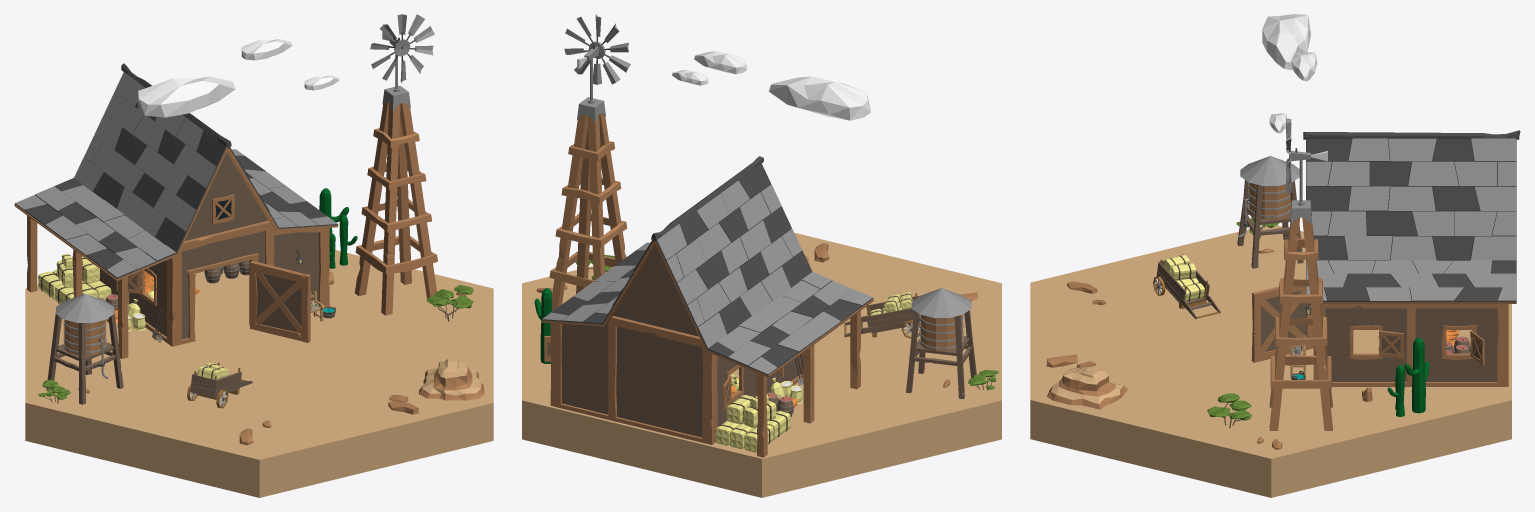
Rendered from Tile_9.fbx.
3 renders of one model, left to right at view 1: azimuth 30°, elevation 25°; view 2: azimuth 150°, elevation 25°; view 3: azimuth 270°, elevation 25°, orthographic. The views are drawn at different scales.
Parts seen in each view (by area): view 1: Tile_9_Base, Tile_9_Farm, Tile_9, Tile_9_windmill, Tile_9_Water_tower, Tile_9_Cart; view 2: Tile_9_Farm, Tile_9_Base, Tile_9_windmill, Tile_9, Tile_9_Water_tower, Tile_9_Cart; view 3: Tile_9_Base, Tile_9_Farm, Tile_9, Tile_9_windmill, Tile_9_Water_tower, Tile_9_Cart.
Part boxes in pixels (box(x1,y1,x2,y2)): Tile_9_Base: box(25, 250, 493, 497); Tile_9_Farm: box(14, 63, 338, 358); Tile_9: box(38, 39, 484, 445); Tile_9_windmill: box(354, 14, 437, 315); Tile_9_Water_tower: box(46, 294, 123, 404); Tile_9_Cart: box(187, 362, 252, 408); Tile_9_Farm: box(542, 156, 873, 457); Tile_9_Base: box(522, 232, 1001, 497); Tile_9_windmill: box(549, 14, 630, 311); Tile_9: box(534, 51, 998, 452); Tile_9_Water_tower: box(906, 288, 976, 399); Tile_9_Cart: box(844, 293, 920, 338); Tile_9_Base: box(1030, 225, 1511, 497); Tile_9_Farm: box(1251, 130, 1520, 386); Tile_9: box(1046, 14, 1470, 449); Tile_9_windmill: box(1269, 118, 1332, 430); Tile_9_Water_tower: box(1237, 156, 1303, 268); Tile_9_Cart: box(1153, 254, 1220, 319).
Bounding box in the file's own units: 2318 × 2042 × 1542.
